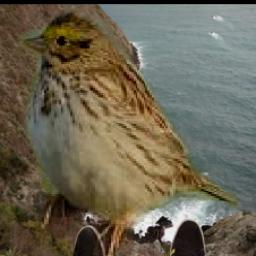Sparrow: (15, 5, 238, 256)
